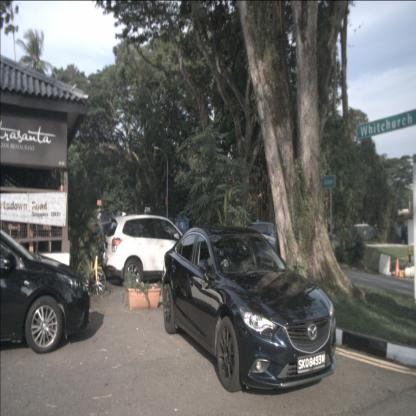movable_object-trafficcone: (394, 257, 401, 277)
vehicle-bicycle: (77, 244, 106, 297)
vehicle-car: (162, 225, 336, 393), (0, 226, 90, 355), (102, 214, 197, 289), (247, 222, 288, 256)
